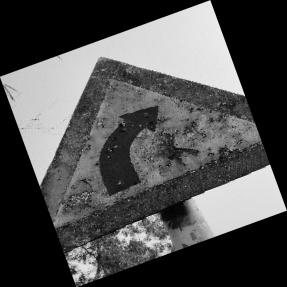Right-turn: (40, 48, 271, 233)
